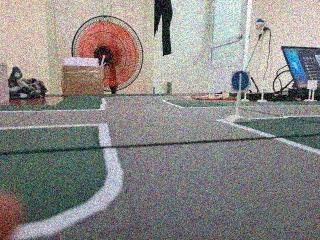straight: (230, 70, 252, 92)
